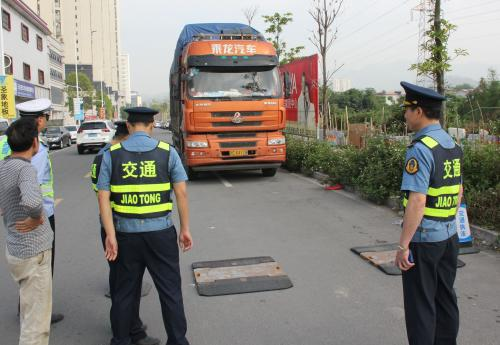chaozhai: (162, 17, 289, 185)
